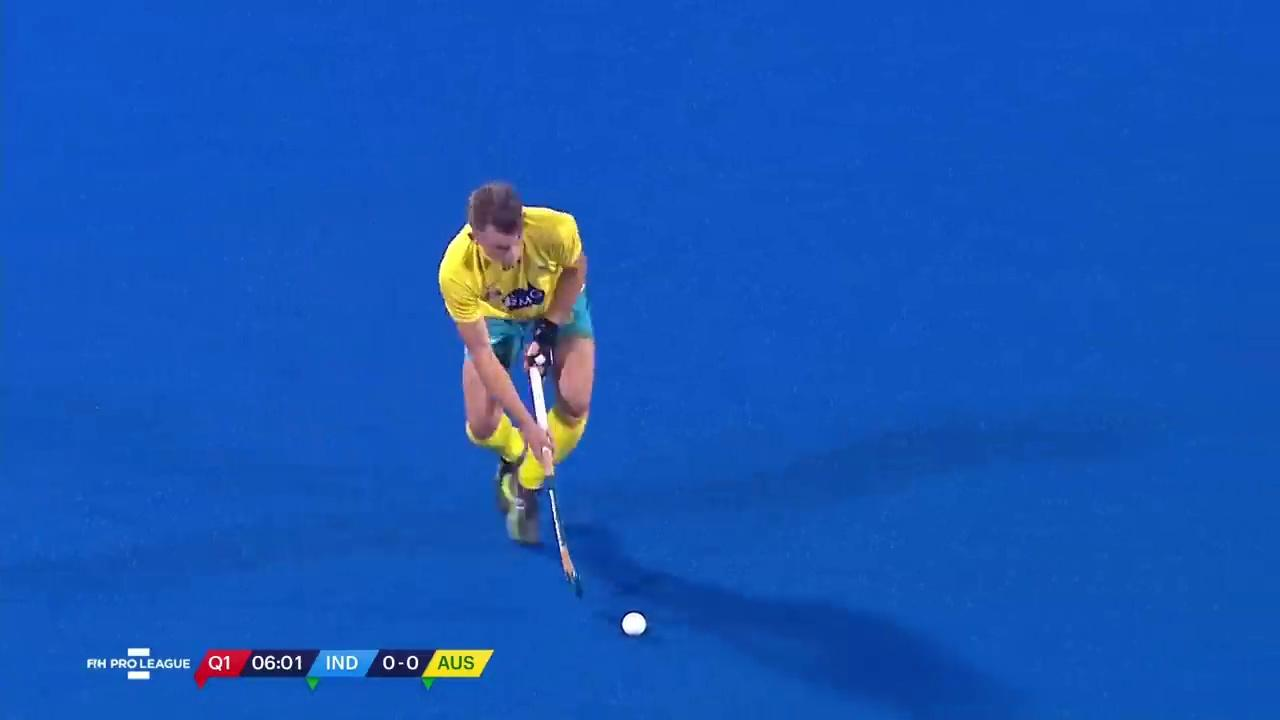ball: (605, 602, 663, 640)
